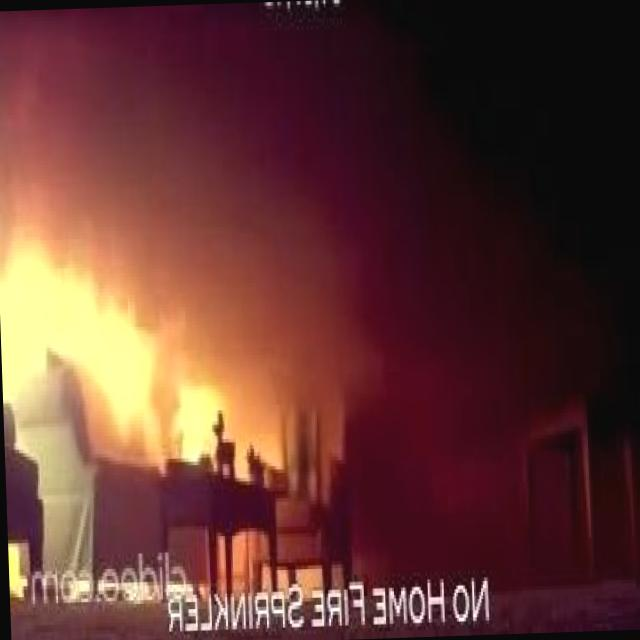fire: (0, 214, 261, 485)
